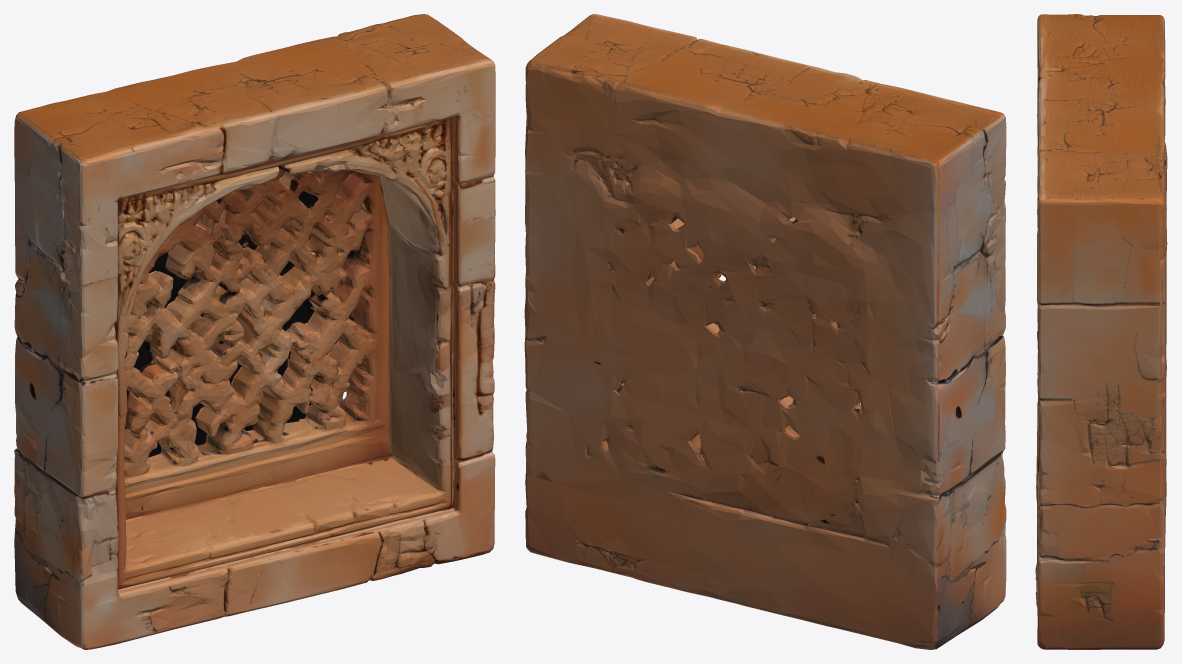
The model's file is stone-lattice-jali-window-optimized.glb.
3 renders of one model, left to right at view 1: azimuth 30°, elevation 25°; view 2: azimuth 150°, elevation 25°; view 3: azimuth 270°, elevation 25°, orthographic. The views are drawn at different scales.
Visible parts, largest first — view 1: 99791d2c-0a2a-420d-afd7-2bad6b77af2c_texturing.obj; view 2: 99791d2c-0a2a-420d-afd7-2bad6b77af2c_texturing.obj; view 3: 99791d2c-0a2a-420d-afd7-2bad6b77af2c_texturing.obj.
Boxes of the visible parts, <box> form: 99791d2c-0a2a-420d-afd7-2bad6b77af2c_texturing.obj: <box>14,14,495,649</box>; 99791d2c-0a2a-420d-afd7-2bad6b77af2c_texturing.obj: <box>524,14,1006,649</box>; 99791d2c-0a2a-420d-afd7-2bad6b77af2c_texturing.obj: <box>1035,14,1167,649</box>.
Size of the model in its own units: 1.59 by 1.8 by 0.4737.
Materials: 1 (1 with a texture image).
